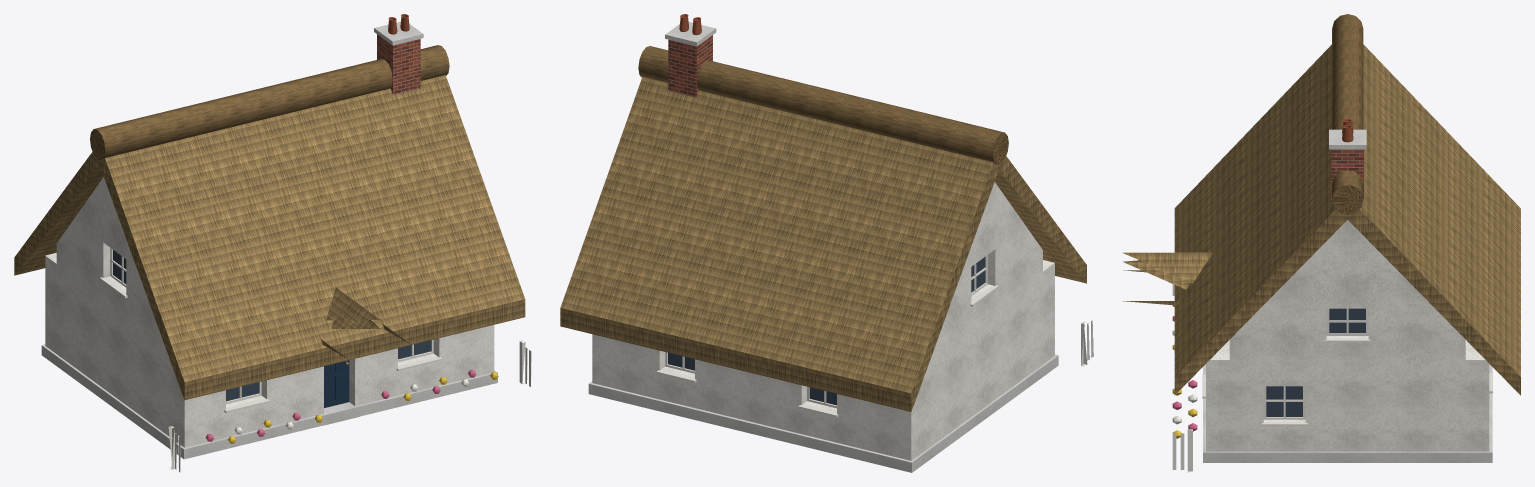
File: build-thatch.glb
3 views of the same model, side by side, from view 1: azimuth 30°, elevation 25°; view 2: azimuth 150°, elevation 25°; view 3: azimuth 270°, elevation 25° (orthographic). The views are drawn at different scales.
Visible parts, largest first — view 1: build-thatch-Thatched_Cottage; view 2: build-thatch-Thatched_Cottage; view 3: build-thatch-Thatched_Cottage.
Boxes of the visible parts, box(x1,y1,x2,y2) form: build-thatch-Thatched_Cottage: box(14, 14, 531, 472); build-thatch-Thatched_Cottage: box(560, 14, 1093, 472); build-thatch-Thatched_Cottage: box(1122, 14, 1520, 472).
Bounding box in the file's own units: 5.12 × 4.42 × 4.91.
7 materials, 6 textured.
